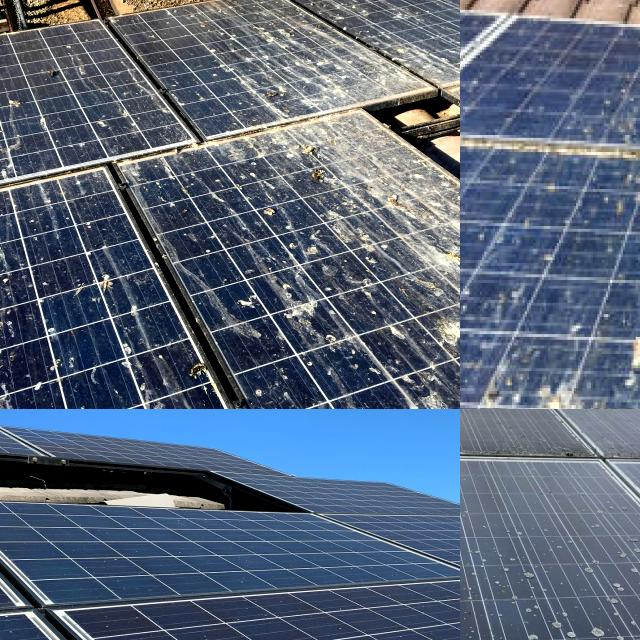bird: (271, 278, 358, 352), (460, 532, 497, 634), (310, 42, 381, 94), (460, 541, 500, 617), (205, 29, 260, 80), (538, 380, 623, 409), (82, 244, 120, 306), (497, 544, 535, 603), (380, 187, 433, 225), (460, 371, 513, 409), (427, 295, 460, 353), (398, 381, 460, 409), (429, 231, 460, 282), (0, 282, 25, 342), (285, 138, 333, 169), (256, 194, 288, 240), (0, 76, 30, 125), (42, 57, 80, 92), (620, 328, 640, 390), (188, 355, 209, 409), (296, 170, 354, 187), (587, 605, 615, 640), (460, 459, 480, 502)
dust: (225, 602, 460, 640)
